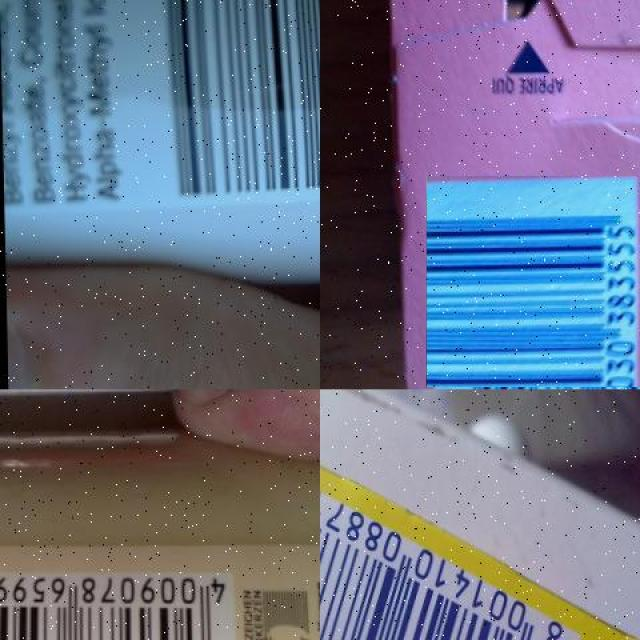Barcode: (320, 456, 585, 640), (427, 174, 640, 388), (150, 0, 320, 201), (0, 568, 235, 640)
